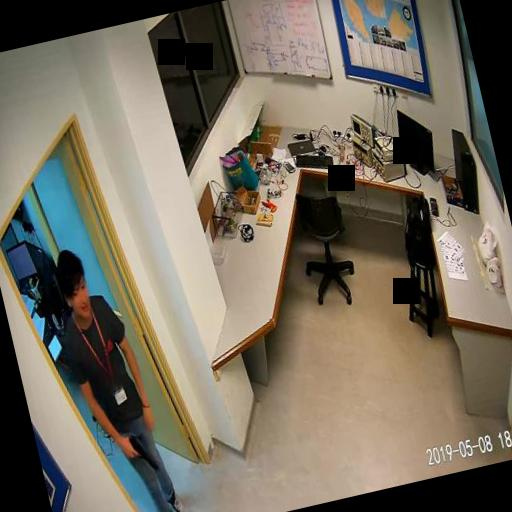Handgun: (125, 431, 157, 474)
